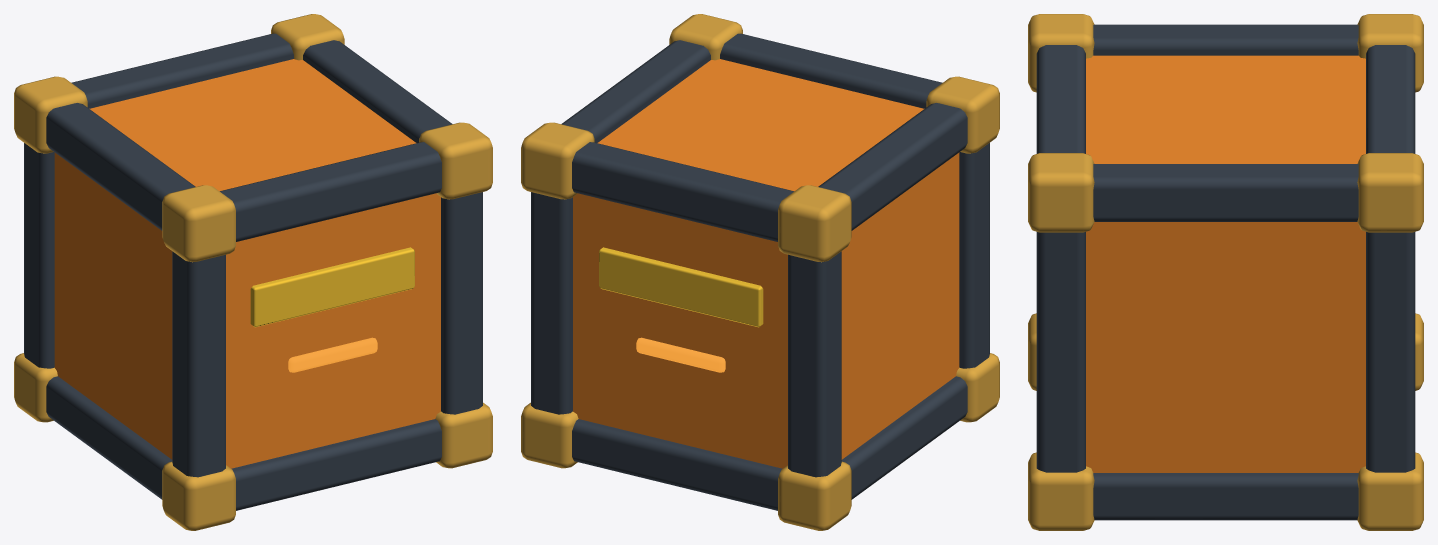
Rendered from crate_small.glb.
The picture shows the model from 3 angles, left to right: view 1: azimuth 30°, elevation 25°; view 2: azimuth 150°, elevation 25°; view 3: azimuth 270°, elevation 25°; orthographic projection. The views are drawn at different scales.
Visible parts, largest first — view 1: crate_small_body; view 2: crate_small_body; view 3: crate_small_body.
Part boxes in pixels (box(x1,y1,x2,y2)): crate_small_body: box(14, 14, 492, 530); crate_small_body: box(521, 14, 999, 530); crate_small_body: box(1028, 14, 1423, 530).
Size of the model in its own units: 1.05 by 1.05 by 1.05.
